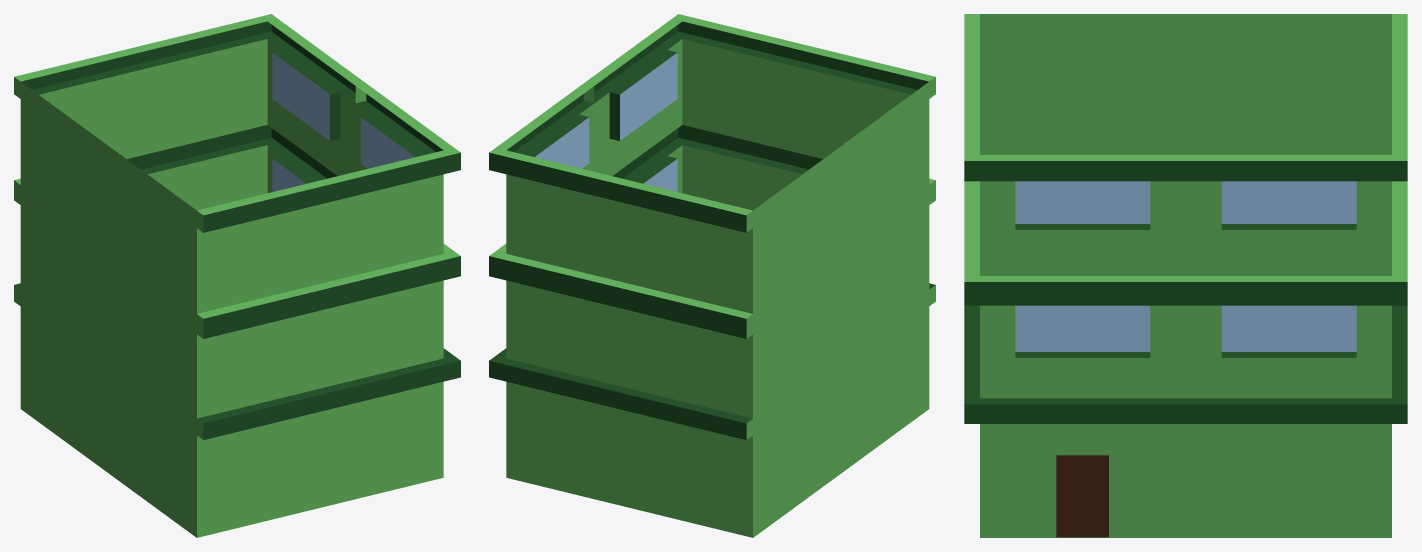
File: green short building 2.fbx
3 views of the same model, side by side, from view 1: azimuth 30°, elevation 25°; view 2: azimuth 150°, elevation 25°; view 3: azimuth 270°, elevation 25° (orthographic). The views are drawn at different scales.
Visible parts, largest first — view 1: Cube; view 2: Cube; view 3: Cube.
Part boxes in pixels (bbox=[...]): Cube: bbox=[14, 14, 460, 537]; Cube: bbox=[489, 14, 935, 537]; Cube: bbox=[964, 14, 1407, 537].
Bounding box in the file's own units: 209 × 254 × 266.
